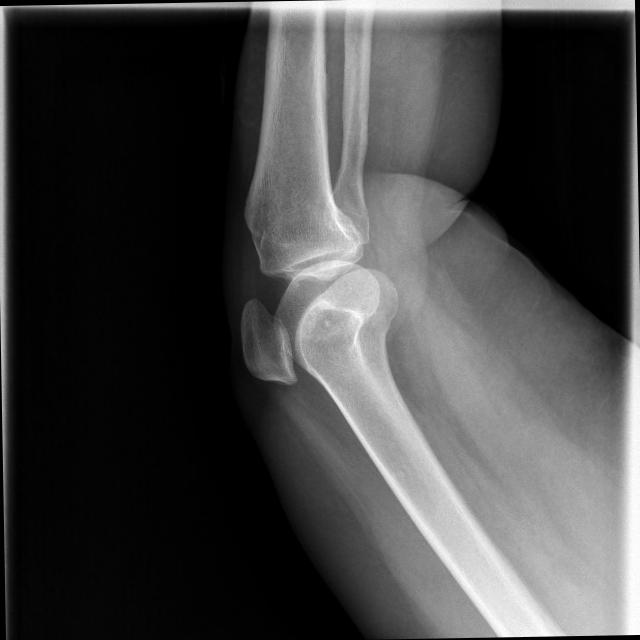Knee: (234, 187, 401, 386)
